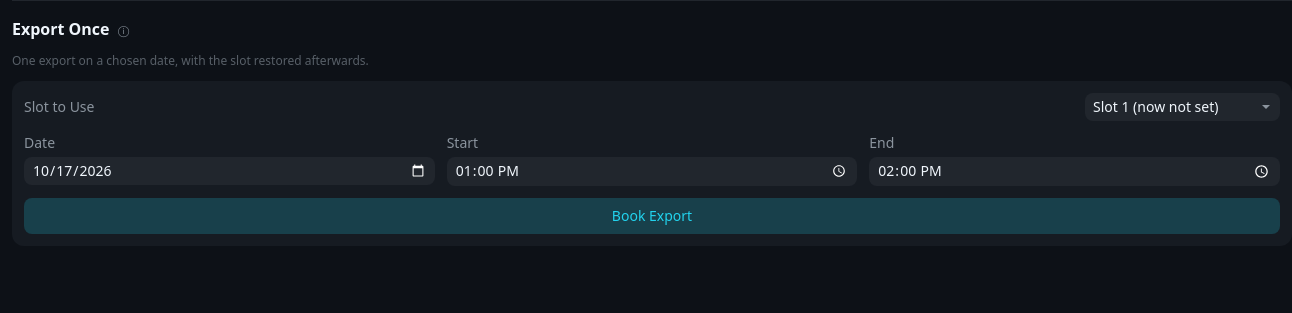
Test: ExportOnceCard › shows the server error when booking is refused
Expected: the time field labelled "Start" is shown, [447,157,857,186]
Click the button "Book Export".
click(652, 216)  # box [24,198,1280,234]
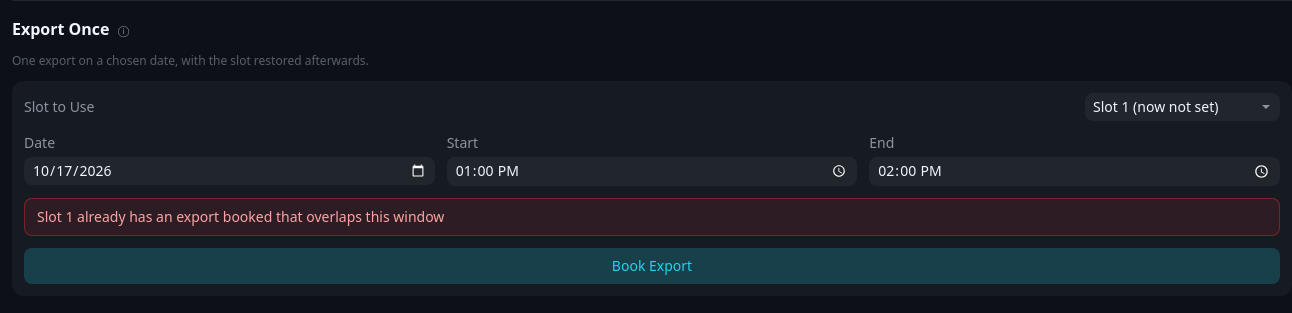
Expected: the message shows "already has an export booked", [37,207,444,226]
